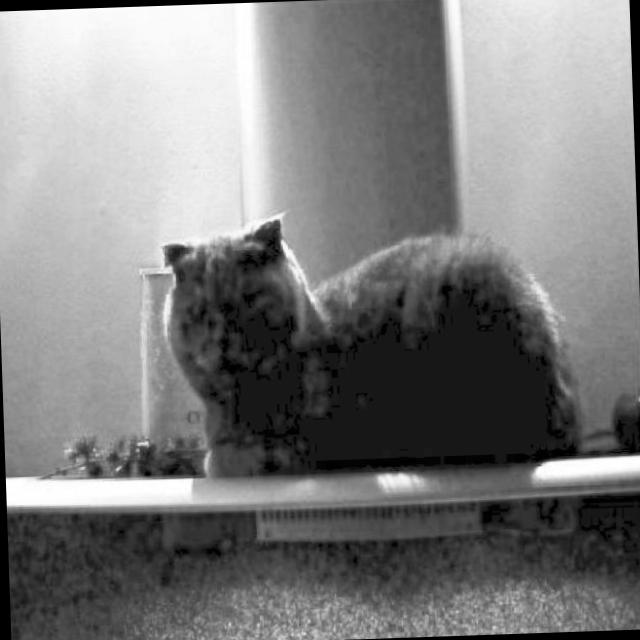Cat: (150, 188, 591, 491)
